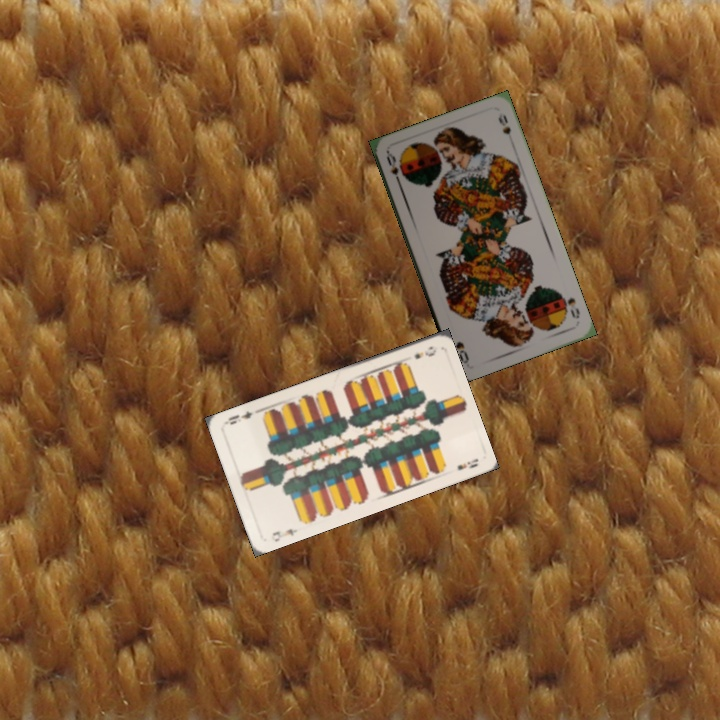E9: (269, 524, 300, 544), (410, 342, 439, 362)
SO: (382, 149, 404, 189), (556, 289, 582, 321)
